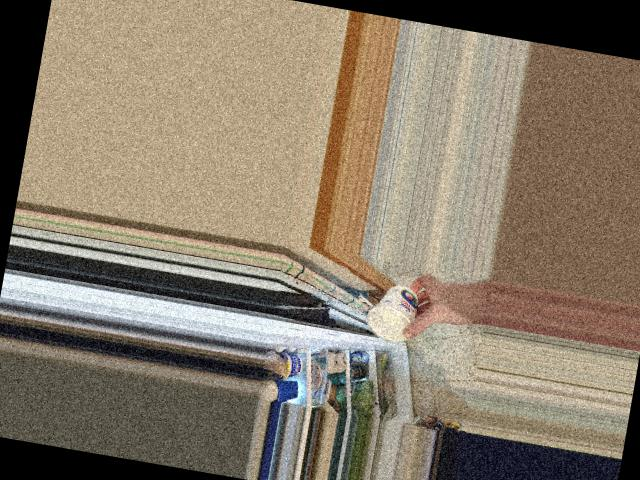cotage: (362, 286, 419, 337)
